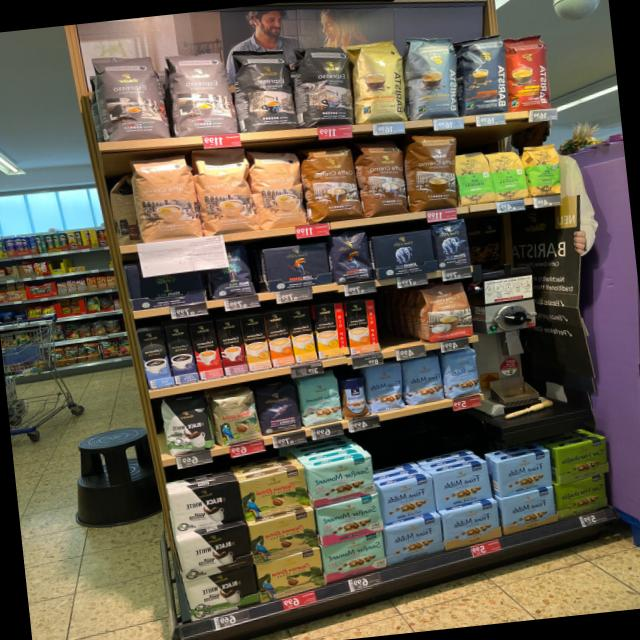AB Bohne: (431, 216, 474, 272)
AB Gemahlen: (369, 228, 437, 281)
Athiopien Bohne: (521, 138, 565, 198)
Athiopien Gemahlen: (454, 147, 495, 205), (487, 146, 529, 202)
BW Bohne: (158, 392, 214, 457)
BW Gemahlen: (180, 565, 258, 622), (176, 524, 252, 582), (168, 480, 244, 534)
Barista CB: (346, 36, 409, 126)
Barista CC: (399, 31, 462, 120)
Barista Espresso: (454, 32, 510, 117)
Barista Kolumbien: (500, 31, 554, 112)
C Fino Bohne: (256, 379, 300, 436)
CC Mild: (130, 152, 202, 244), (192, 145, 255, 237), (246, 146, 308, 230)
CC Vollmundig: (421, 278, 474, 344)
CC Vollmundig 36 Pads: (299, 141, 362, 222), (404, 130, 464, 212), (354, 138, 409, 218)
Colombia BB Bohne: (210, 390, 260, 447)
Colombia BB Gemahlen: (255, 547, 327, 604), (238, 467, 312, 522), (248, 510, 320, 565)
Empty Shelf: (375, 288, 427, 351)
Espresso Aromatisch: (90, 50, 170, 144), (164, 48, 236, 138)
FM Bohne: (441, 346, 482, 399), (364, 362, 406, 413), (400, 354, 442, 404)
FM Gemahlen: (438, 498, 504, 550), (430, 462, 494, 512), (383, 514, 444, 566), (497, 486, 560, 535), (378, 476, 438, 525), (493, 450, 553, 498)
FM Instant: (338, 375, 370, 420)
Herzhatfe Mundig: (552, 434, 612, 484), (554, 472, 610, 520)
LG Bohne: (327, 229, 375, 286)
LG Gemahlen: (259, 240, 333, 292)
SM Bohne: (295, 372, 342, 428)
SM Gemahlen: (308, 455, 380, 509), (315, 493, 387, 547), (321, 531, 388, 584)
Simo CCMild: (313, 301, 349, 358)
Simo CCMild bigpack: (286, 306, 318, 363)
Simo CCVollmundig: (345, 298, 380, 356)
Simo CCVollmundig bigpack: (262, 309, 295, 368)
Simo Decaff: (239, 314, 272, 371)
Simo Es Brazil: (188, 319, 224, 381)
Simo Es Caramel: (215, 317, 248, 375)
Simo Es Kraft: (164, 323, 198, 384)
Simo Es Vanilla: (135, 329, 174, 388)
